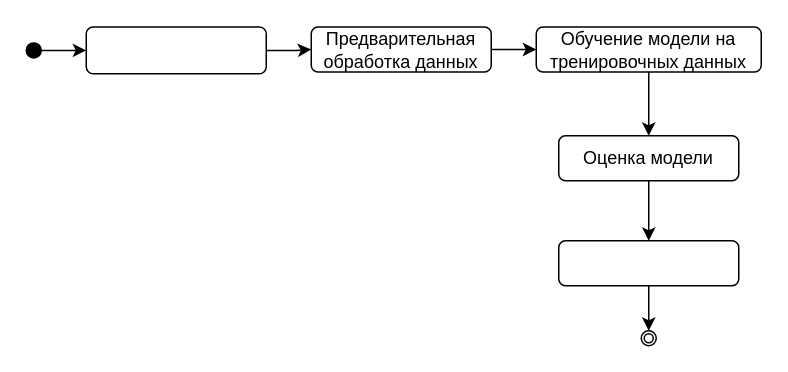
This 788x372 diagram has some shape labels left out. Each missing label, with the box of its shape:
Загрузка датасета: (85, 26, 266, 74)
Сохранение модели: (557, 239, 739, 286)
